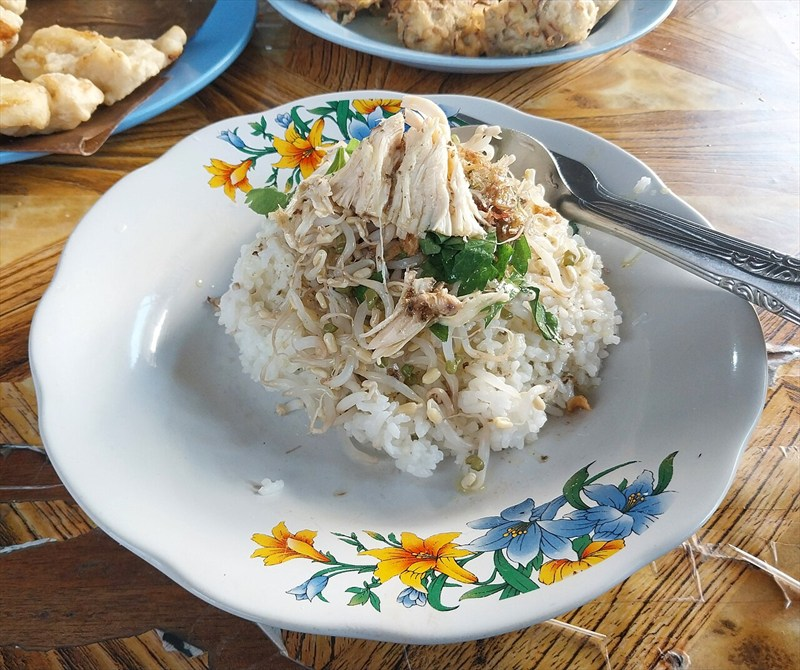Soto Ayam: (47, 21, 633, 626)
